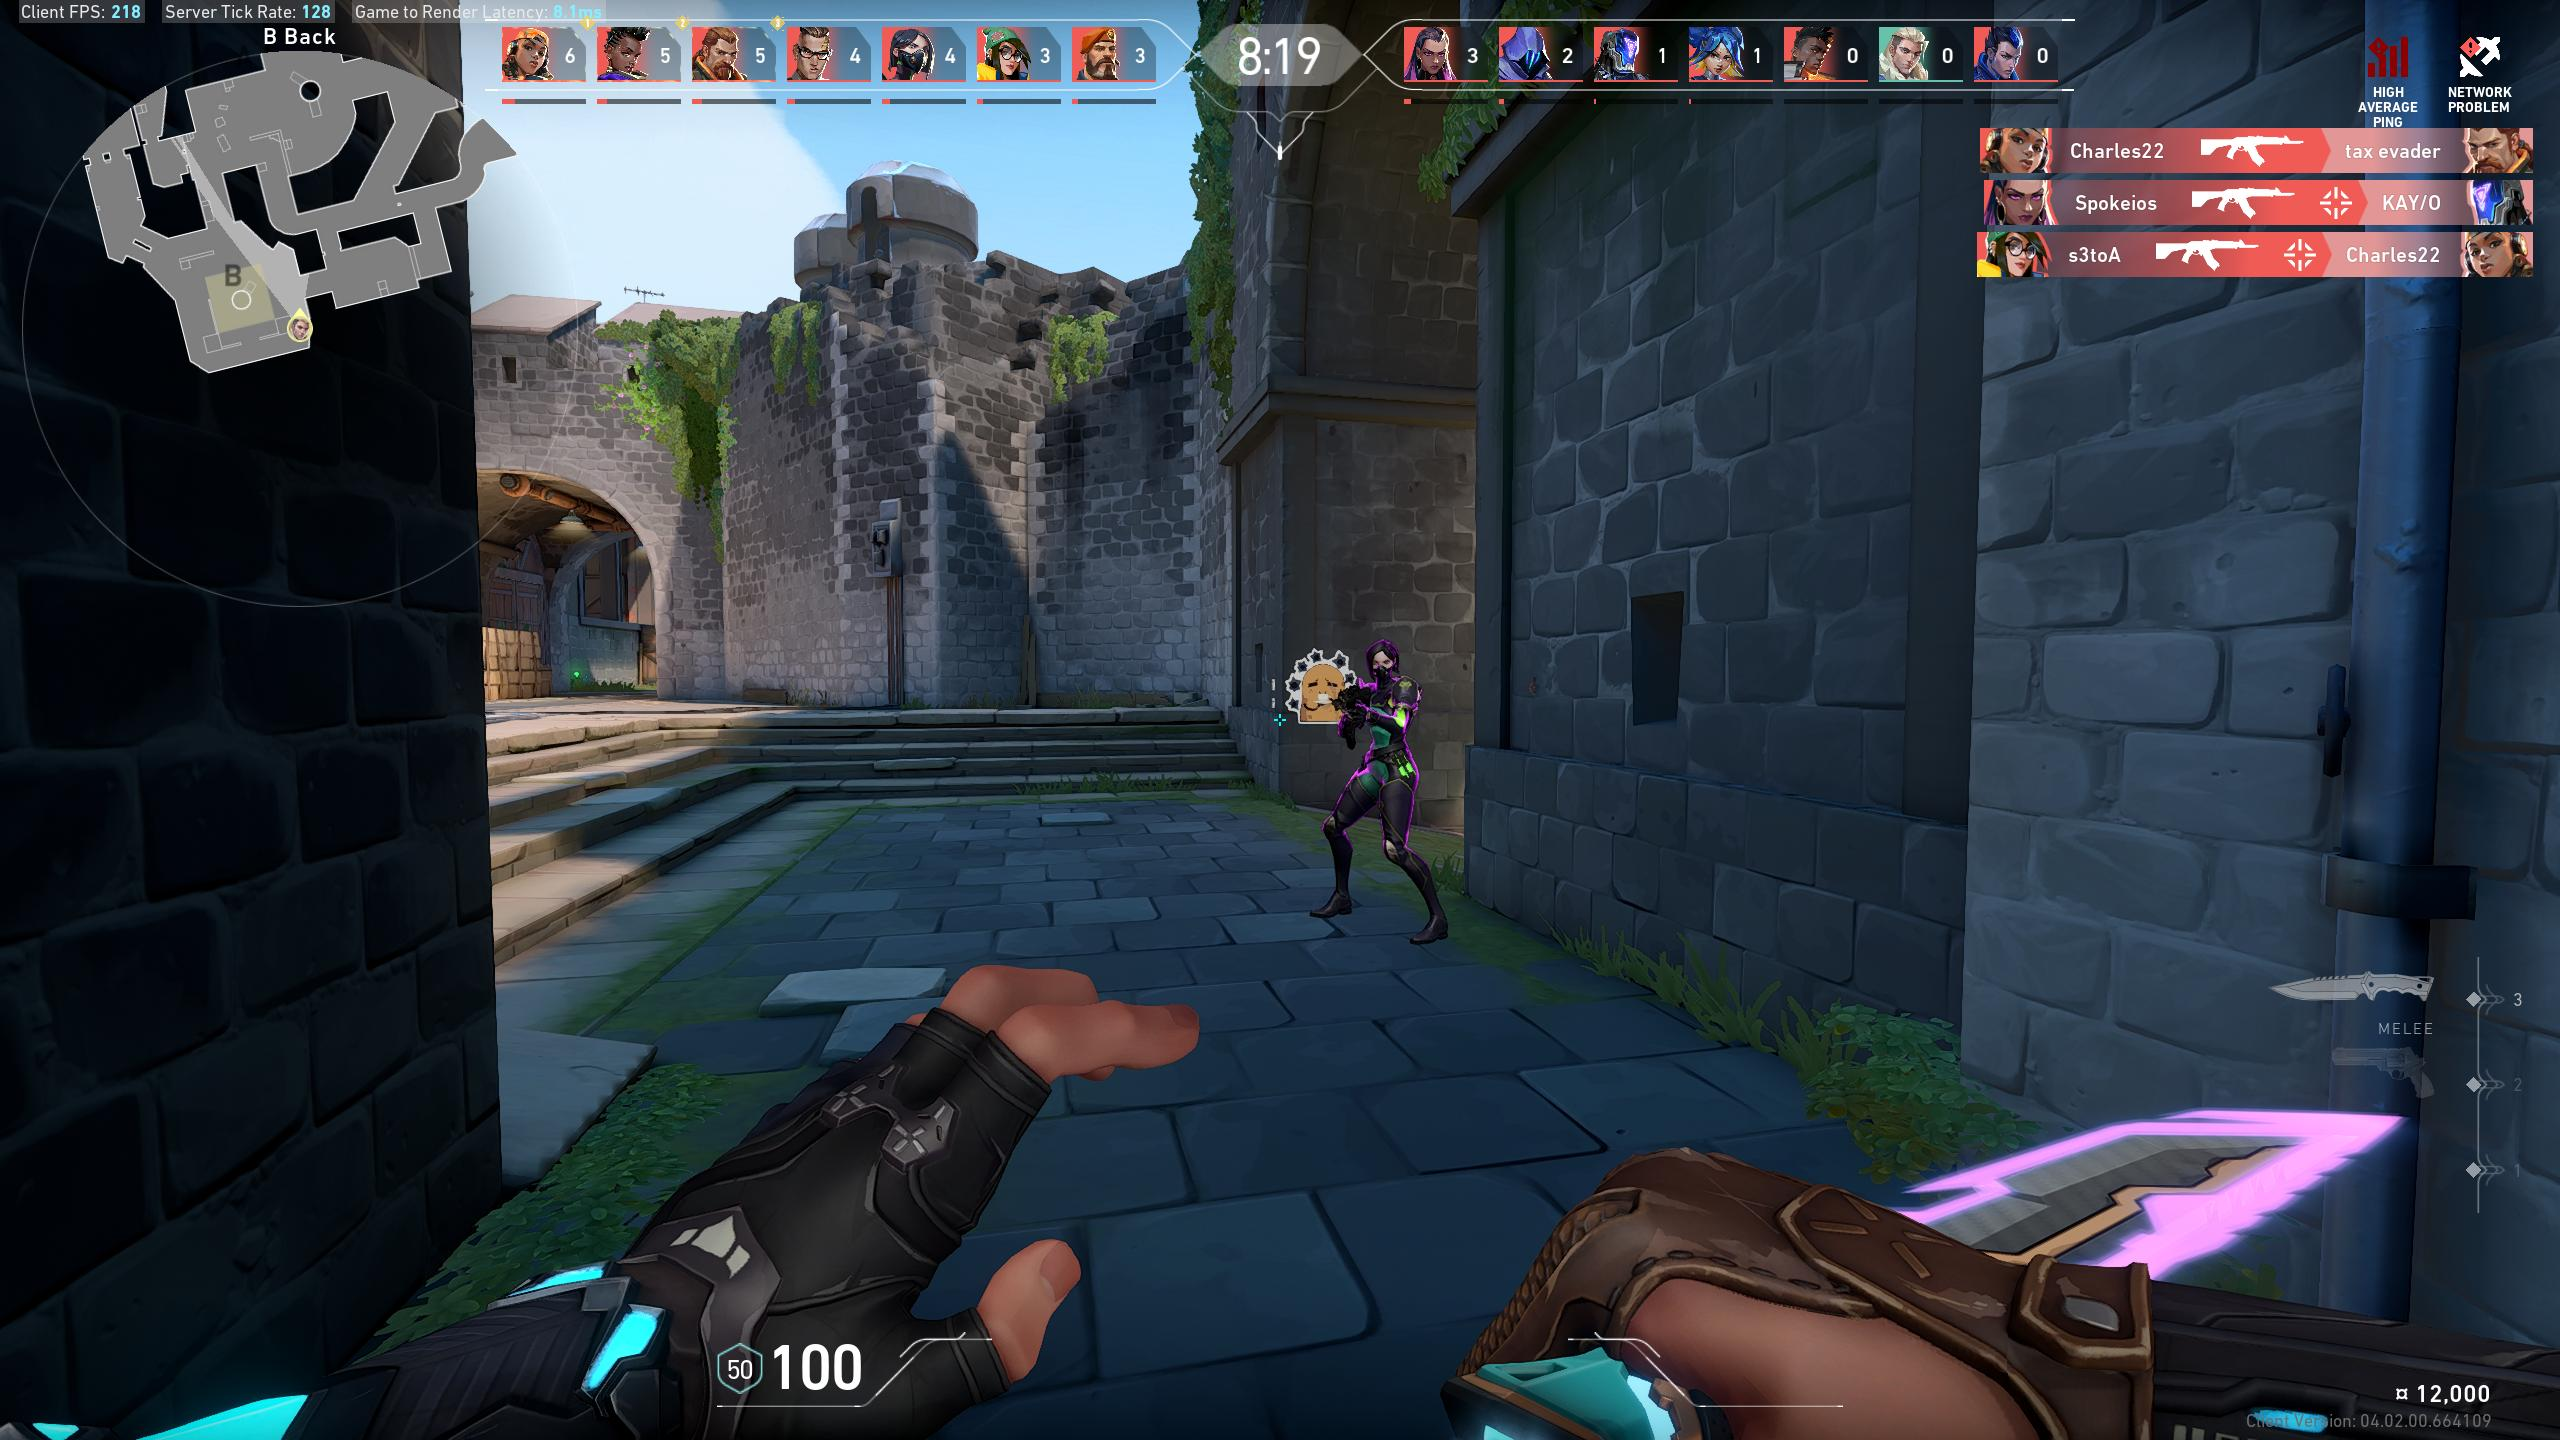enemyBody: (1370, 682, 1407, 768)
enemyHead: (1371, 649, 1394, 675)
